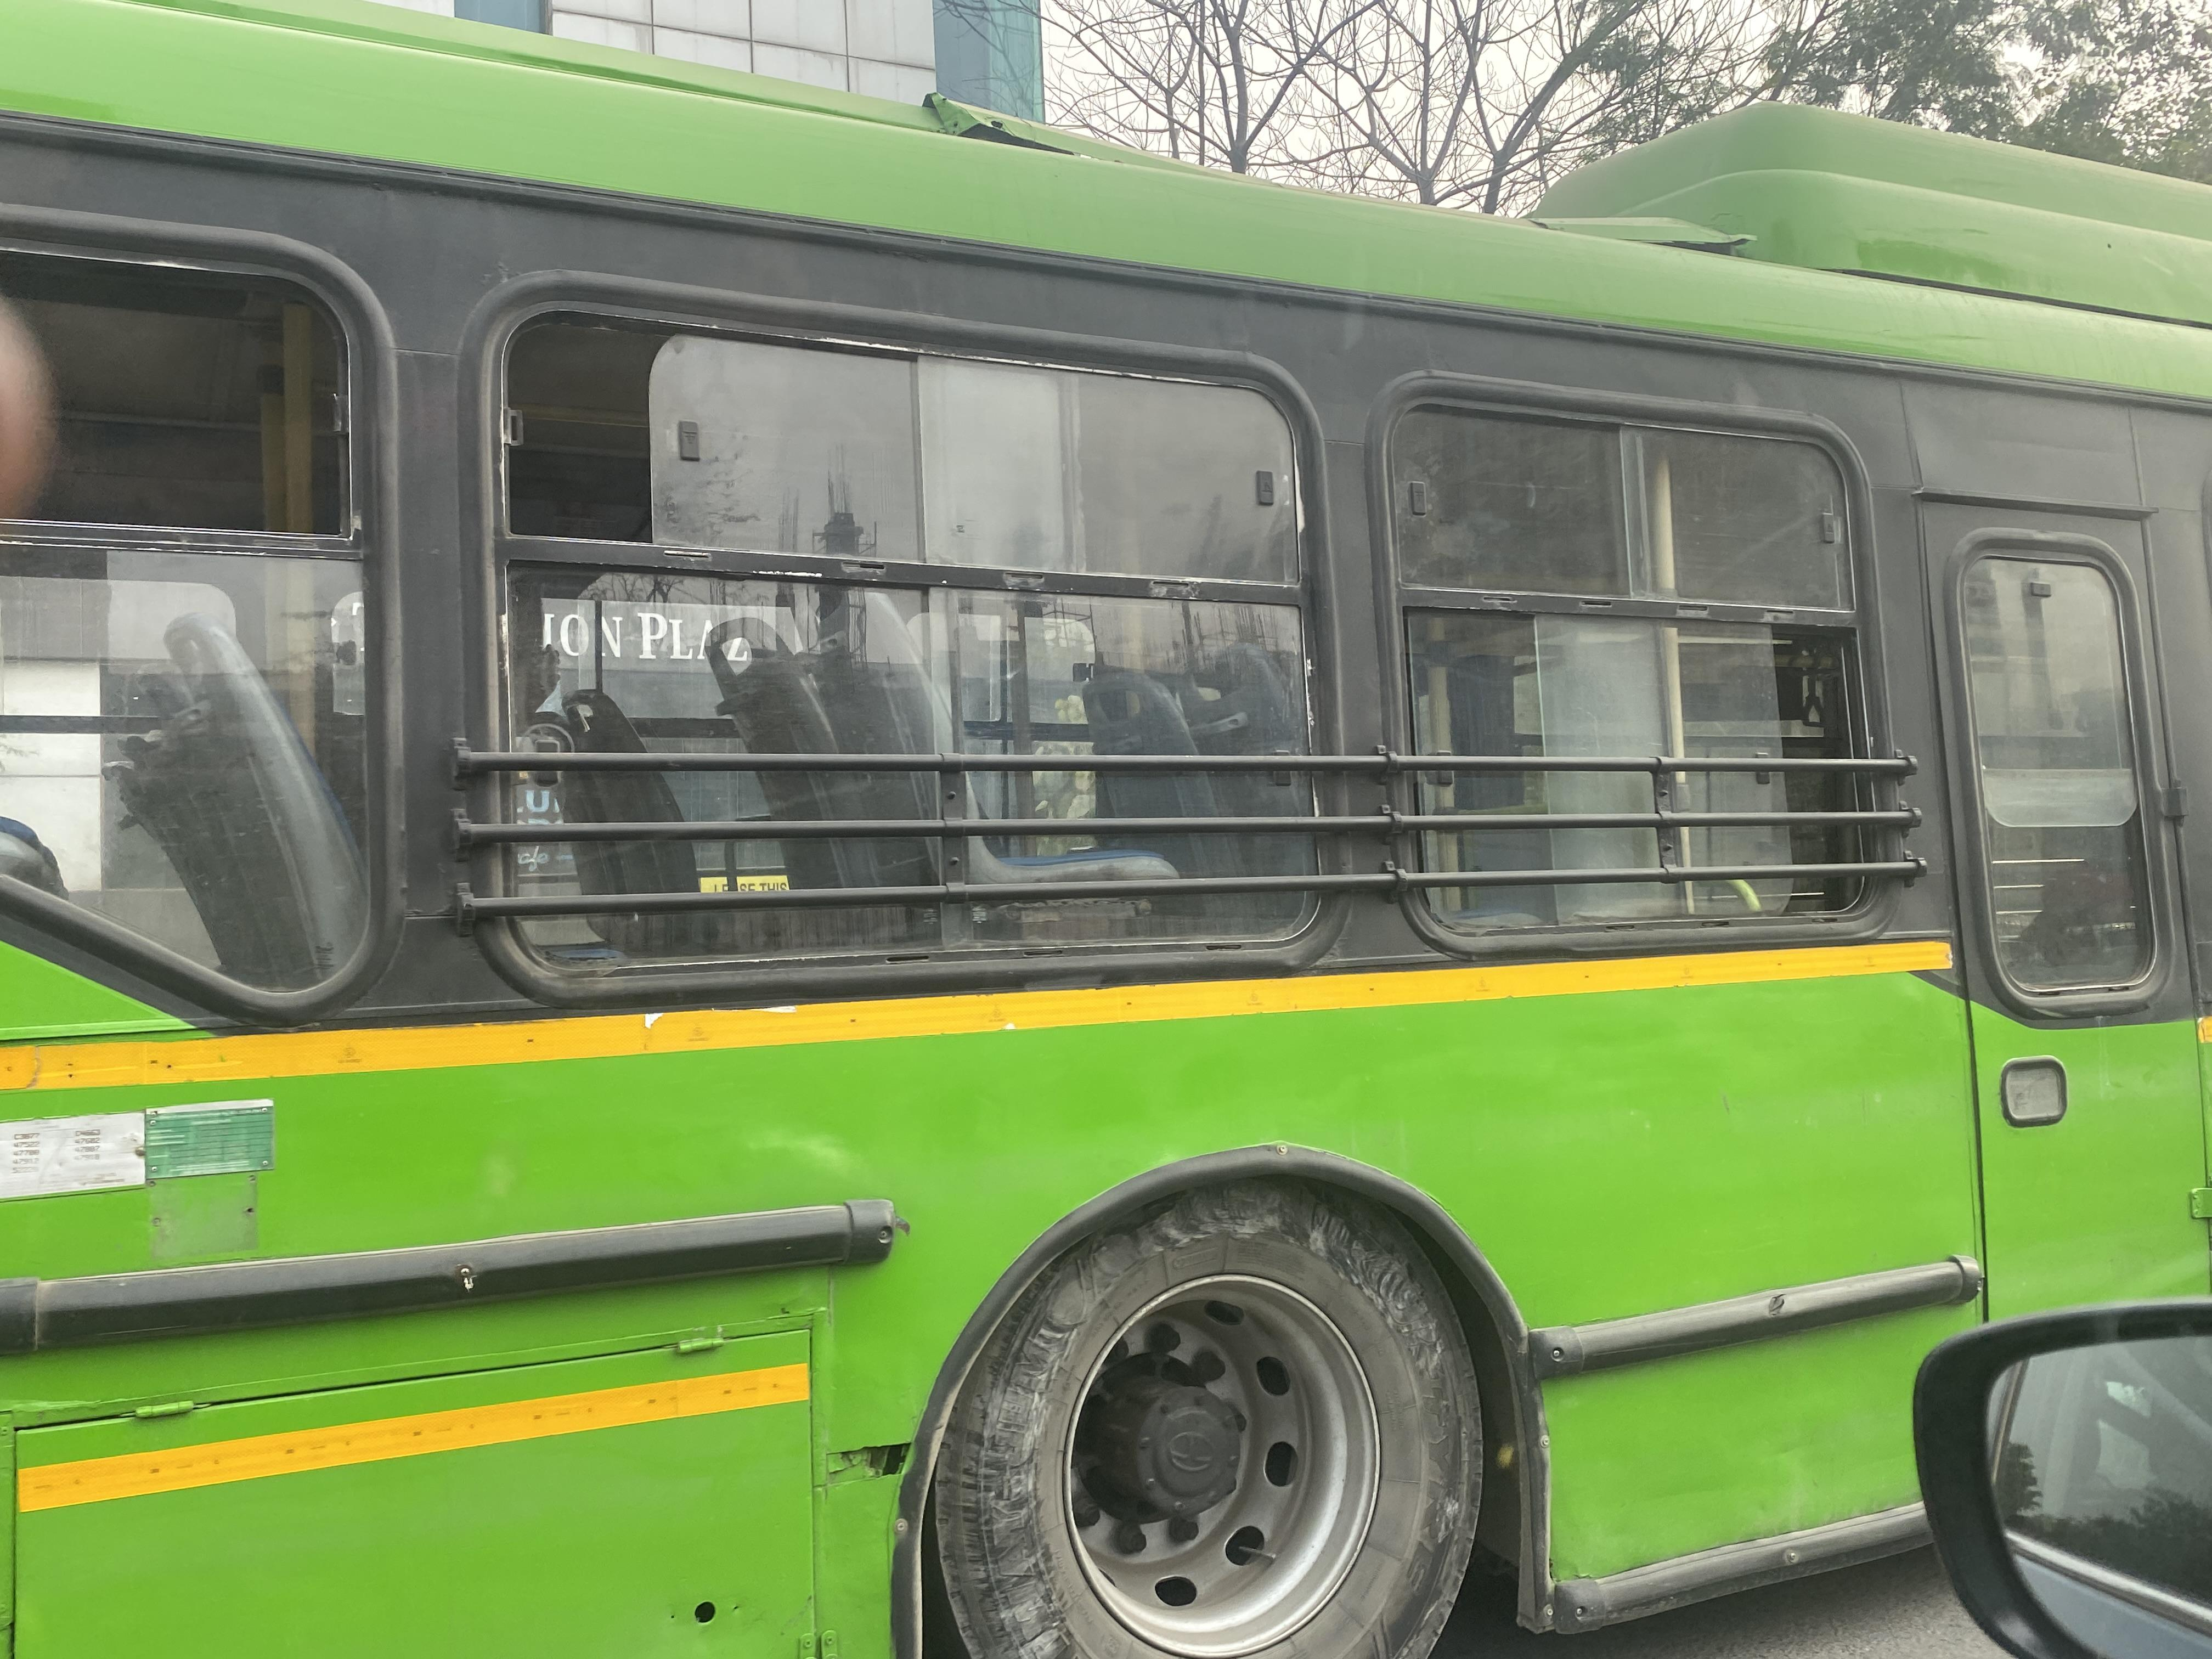Bus: (0, 0, 2212, 1629)
